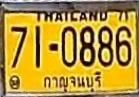0: (61, 25, 76, 66)
1: (34, 25, 40, 66)
6: (115, 25, 131, 65)
7: (10, 26, 26, 67)
8: (79, 25, 94, 66), (97, 25, 112, 66)
KRI: (43, 69, 104, 94)
